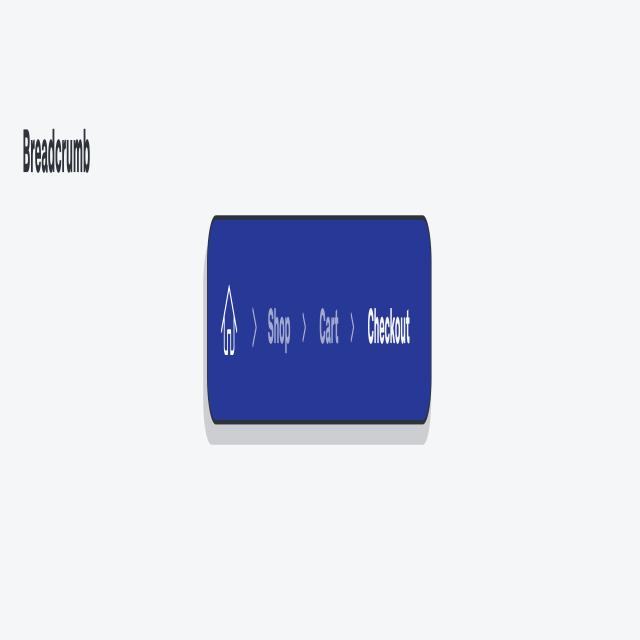Breadcrumb: (203, 184, 438, 498)
